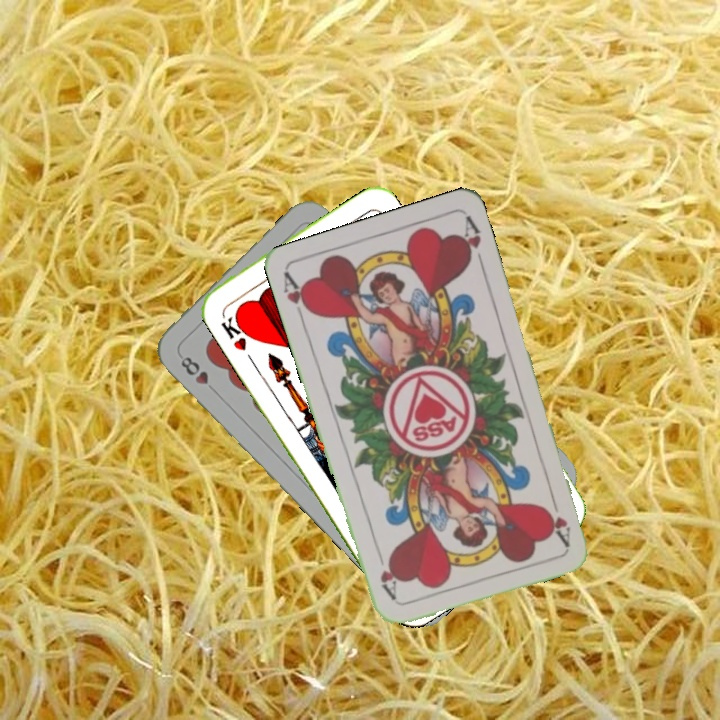H8: (176, 352, 221, 397)
HA: (279, 269, 315, 327), (544, 490, 573, 548)
HK: (216, 307, 254, 354)
